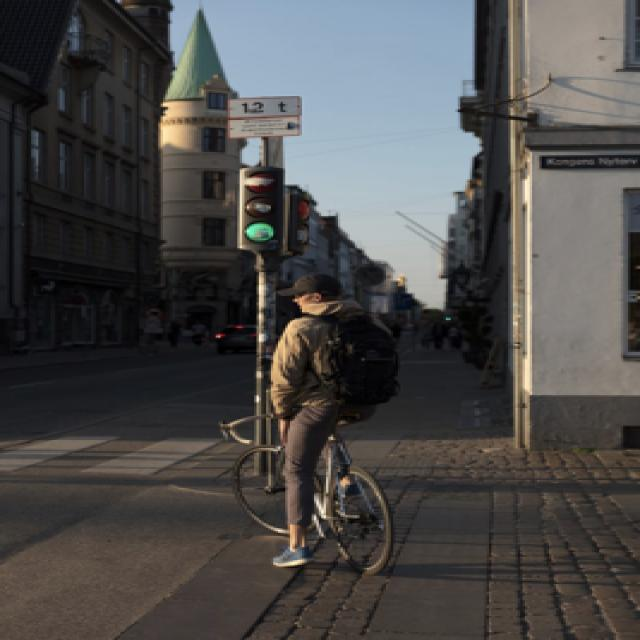trafficlight: (235, 164, 283, 250)
